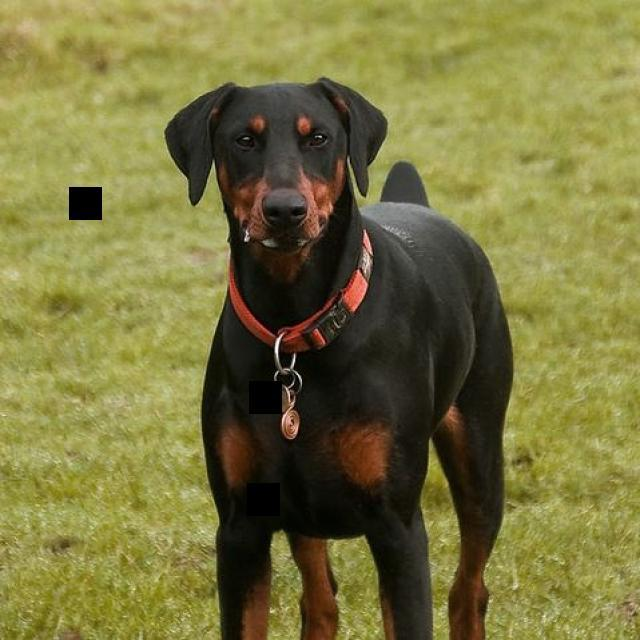adult_dog: (160, 73, 515, 640)
